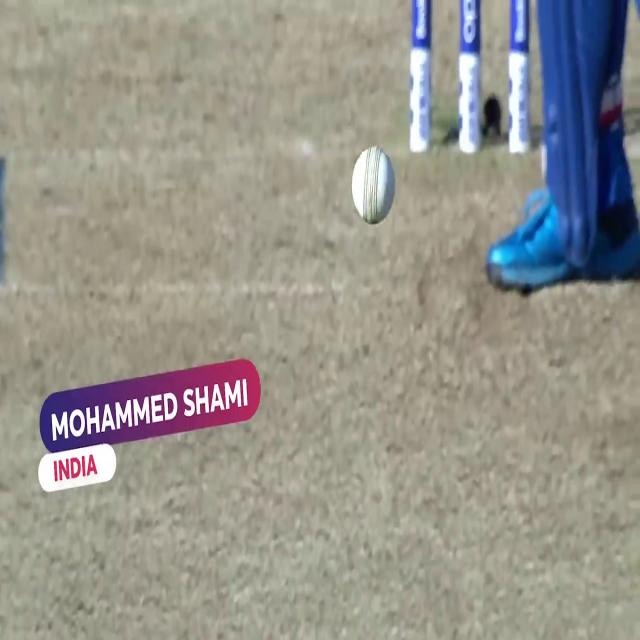ball: (348, 137, 400, 233)
